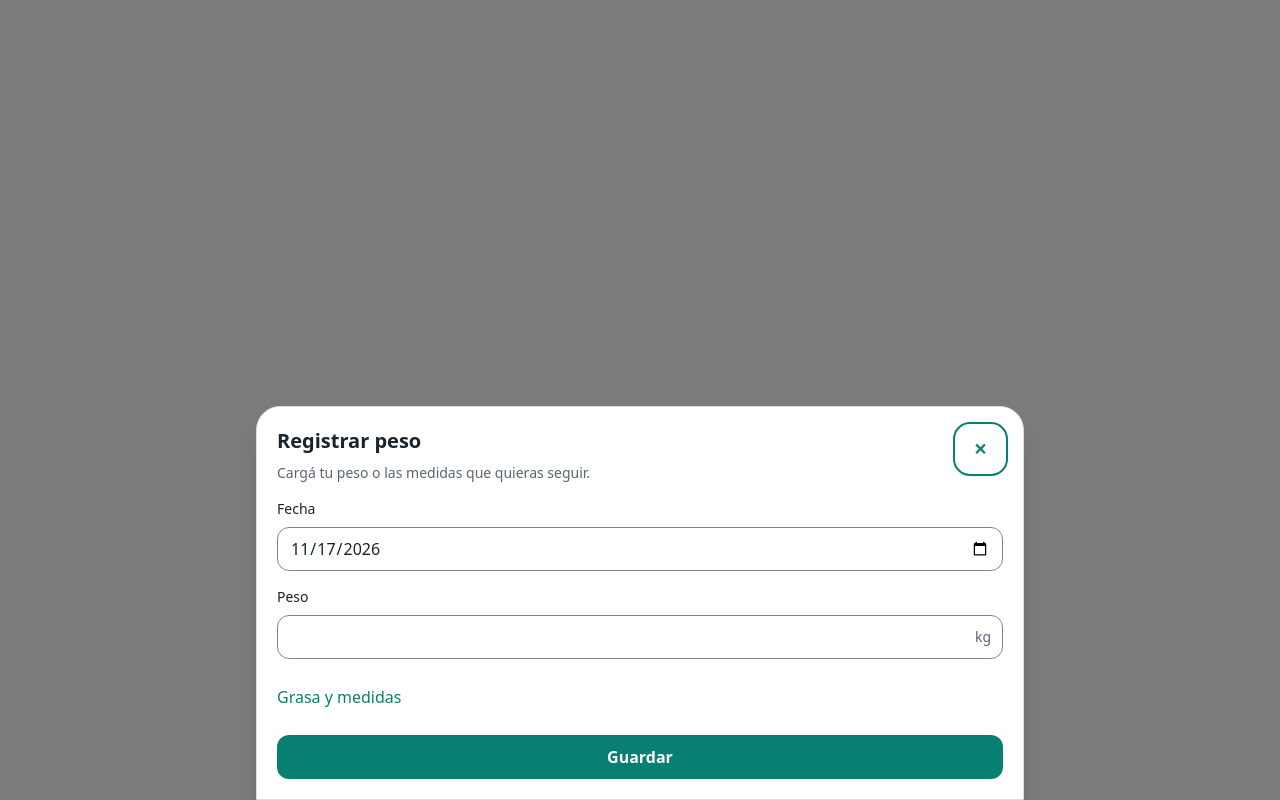
conserva el borrador y muestra el error si la hoja sigue abierta
The width and height of the screenshot is (1280, 800).
Type "78,4" into the field labelled "Peso" at (640,637), box [277,615,1003,659]
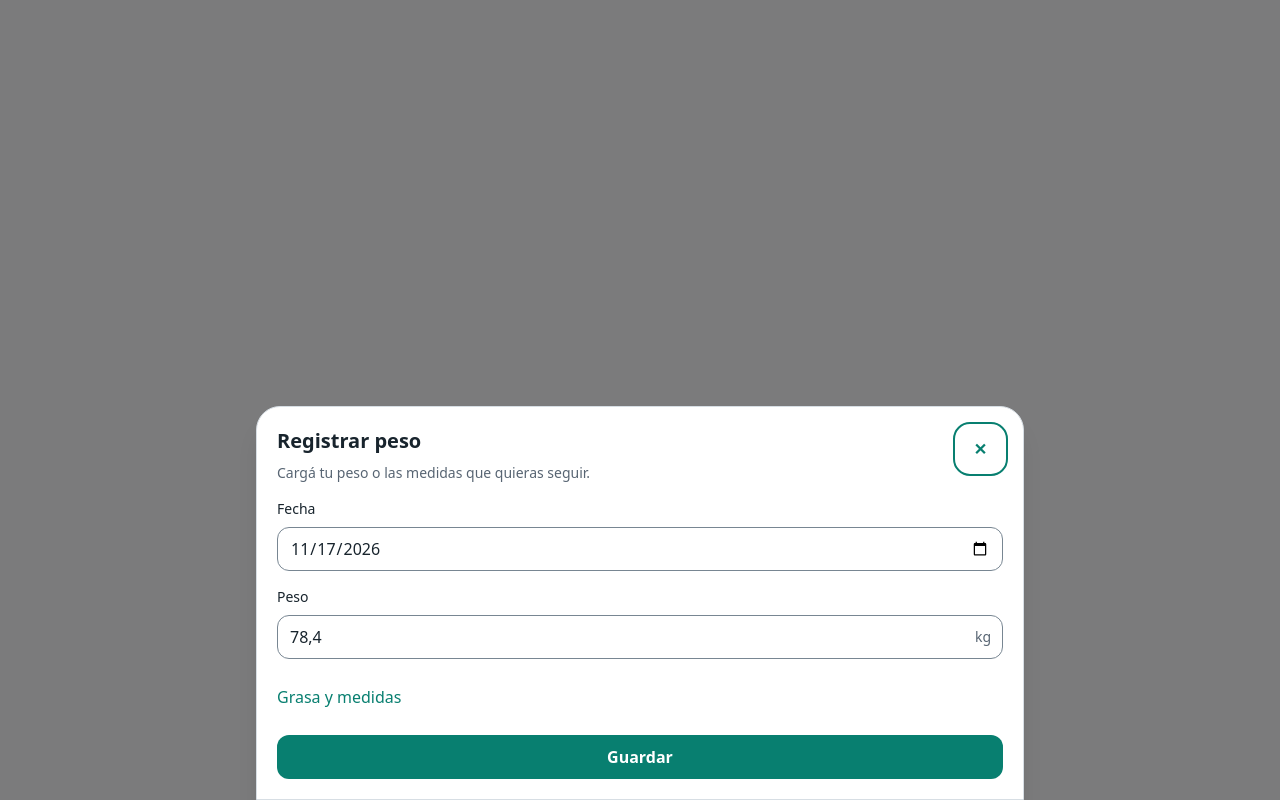
Click the button "Guardar" at (640,757), box [277,735,1003,779]
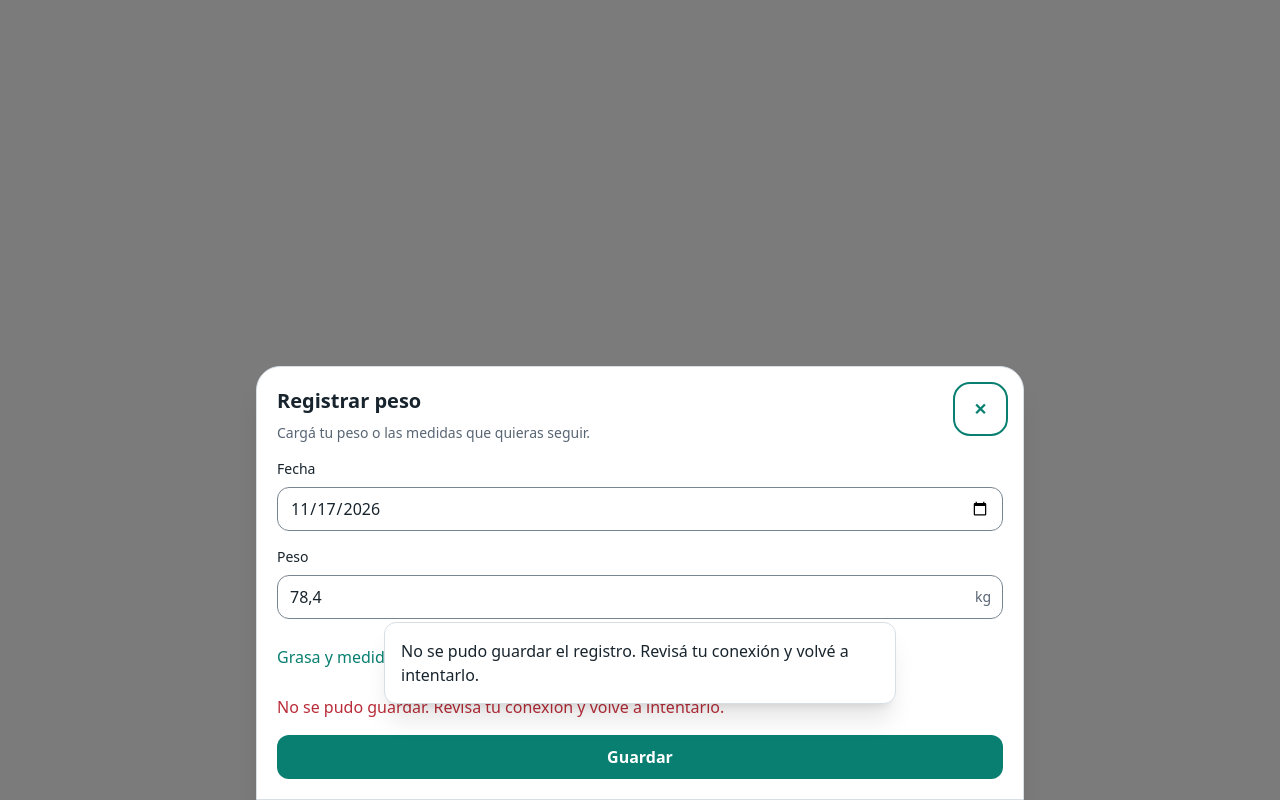
Expected: the dialog is shown, [256,366,1024,799]
Expected: the message "No se pudo guardar. Revisá tu conexión y volvé a intentarlo." is shown, [277,696,724,718]
Expected: the message "No se pudo guardar el registro. Revisá tu conexión y volvé a intentarlo." is shown, [384,622,896,704]
